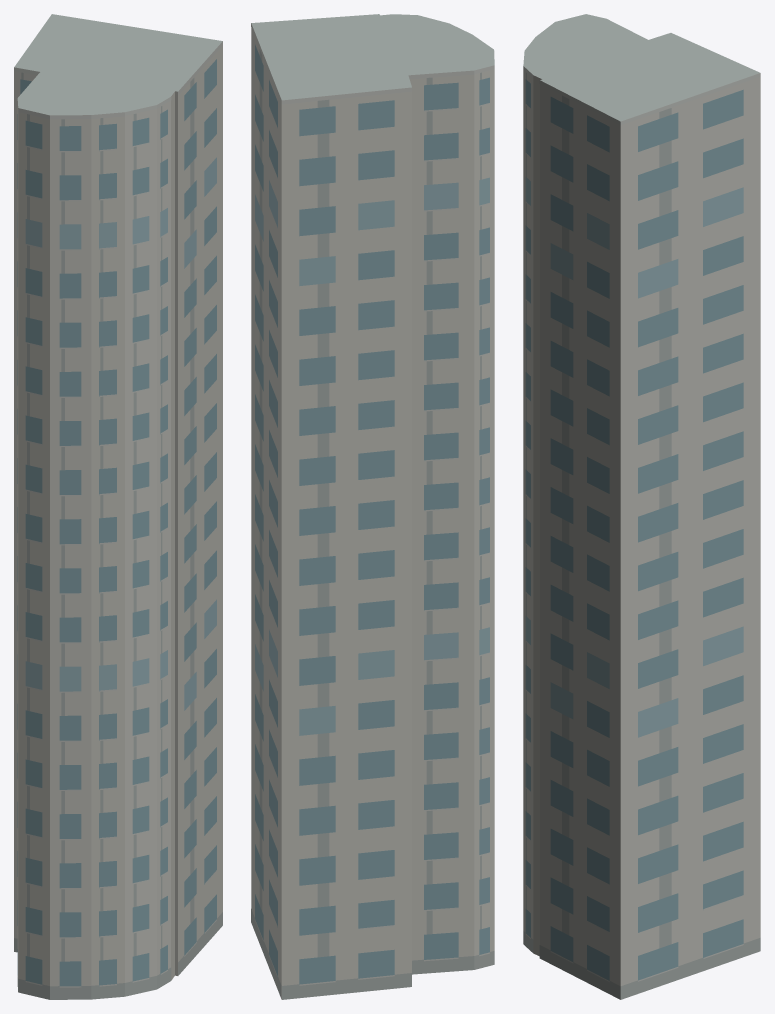
The model's file is survey-upis-32907054.glb.
3 views of the same model, side by side, from view 1: azimuth 30°, elevation 25°; view 2: azimuth 150°, elevation 25°; view 3: azimuth 270°, elevation 25° (orthographic). The views are drawn at different scales.
Visible parts, largest first — view 1: survey-upis-32907054.tmp; view 2: survey-upis-32907054.tmp; view 3: survey-upis-32907054.tmp.
Part boxes in pixels (left/top/right/bottom): survey-upis-32907054.tmp: left=14, top=14, right=222, bottom=999; survey-upis-32907054.tmp: left=251, top=14, right=494, bottom=999; survey-upis-32907054.tmp: left=523, top=14, right=760, bottom=999.
Bounding box in the file's own units: 14.43 × 54.9 × 13.45.
